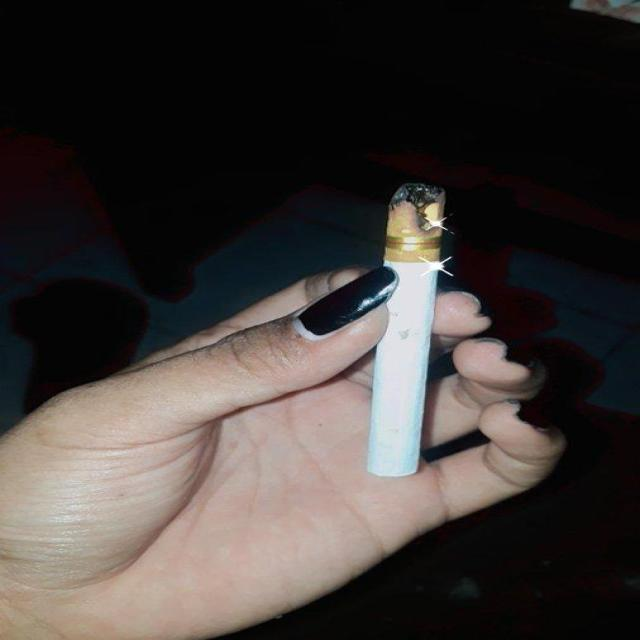rokok: (368, 189, 448, 479)
